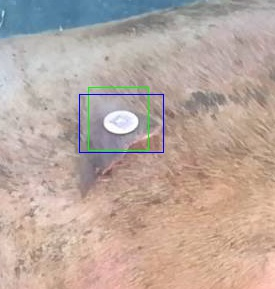text: (88, 87, 148, 150)
